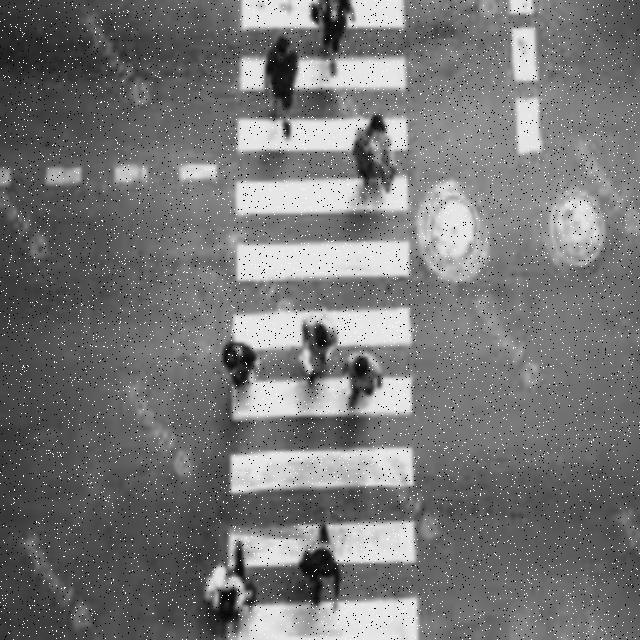Pedestrian crosswalk: (198, 0, 424, 637)
